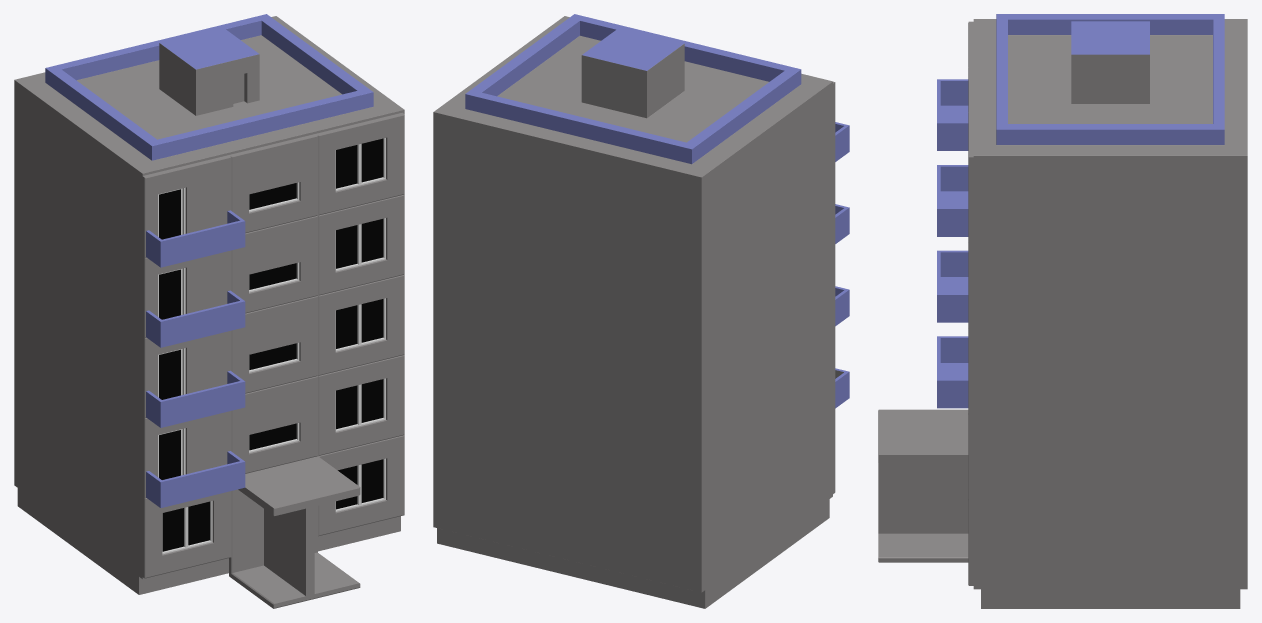
Rendered from WindFairyPanelka.fbx.
3 renders of one model, left to right at view 1: azimuth 30°, elevation 25°; view 2: azimuth 150°, elevation 25°; view 3: azimuth 270°, elevation 25°, orthographic. The views are drawn at different scales.
Visible parts, largest first — view 1: JountPanelka; view 2: JountPanelka; view 3: JountPanelka.
Part boxes in pixels (x1,y1,x2,y2): JountPanelka: (14, 14, 404, 608); JountPanelka: (433, 14, 849, 608); JountPanelka: (878, 14, 1247, 608).
Size of the model in its own units: 7477 by 12822 by 8539.
